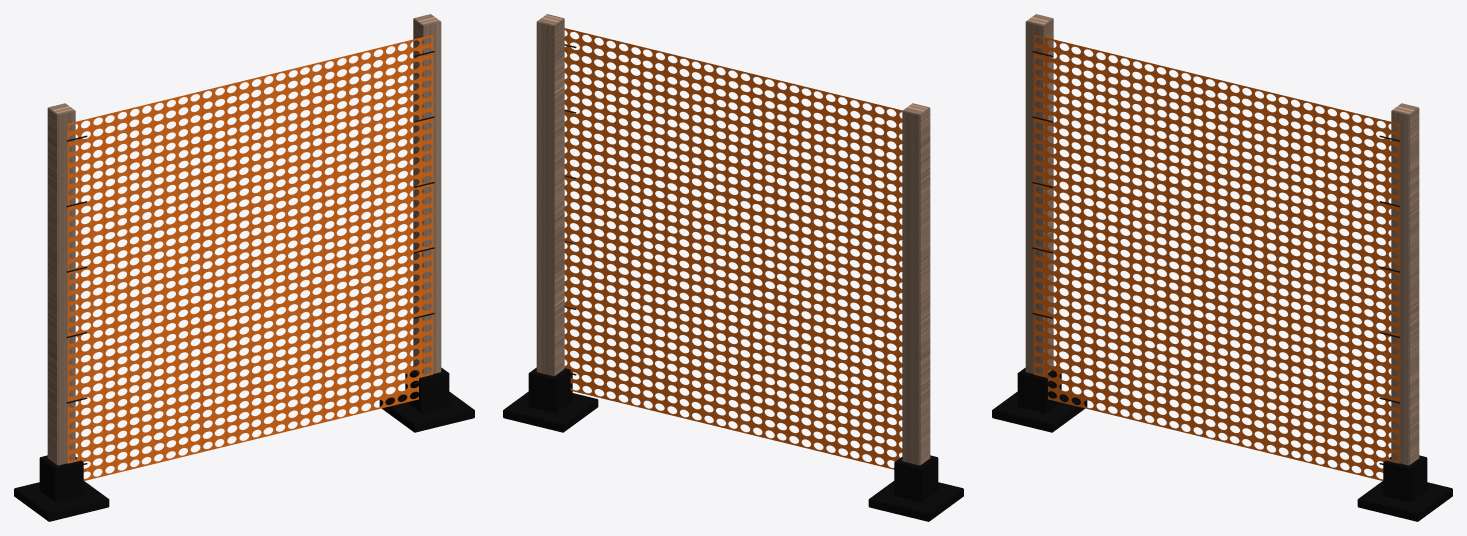
File: obj_mesh_wall.glb
The picture shows the model from 3 angles, left to right: view 1: azimuth 30°, elevation 25°; view 2: azimuth 150°, elevation 25°; view 3: azimuth 330°, elevation 25°; orthographic projection.
Visible parts, largest first — view 1: mesh, mesh_wall_body; view 2: mesh, mesh_wall_body; view 3: mesh, mesh_wall_body.
Part boxes in pixels (<box>): mesh: <box>67,34,432,480</box>; mesh_wall_body: <box>14,14,474,521</box>; mesh: <box>564,28,902,469</box>; mesh_wall_body: <box>503,14,963,521</box>; mesh: <box>1034,34,1399,480</box>; mesh_wall_body: <box>992,14,1452,521</box>.
Size of the model in its own units: 2.1 by 1.85 by 0.3.
3 materials, 2 textured.
